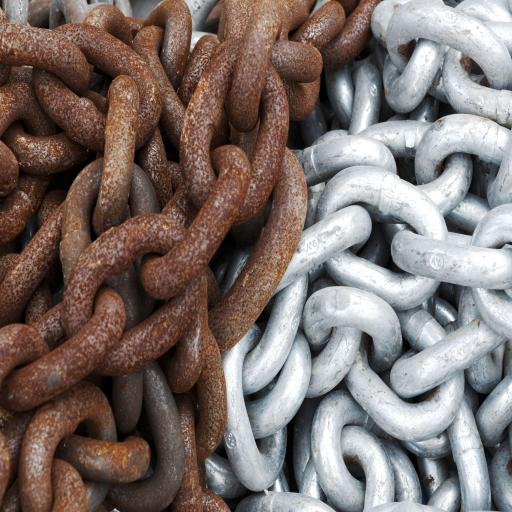segmentation: (0, 0, 383, 512), (208, 148, 307, 354), (0, 23, 90, 95), (92, 95, 136, 231)
